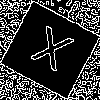X: (24, 25, 75, 82)
